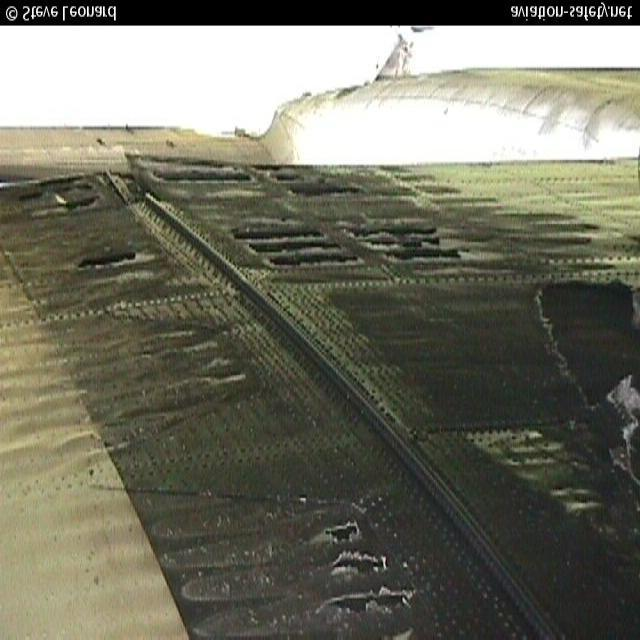crack: (313, 518, 423, 636)
